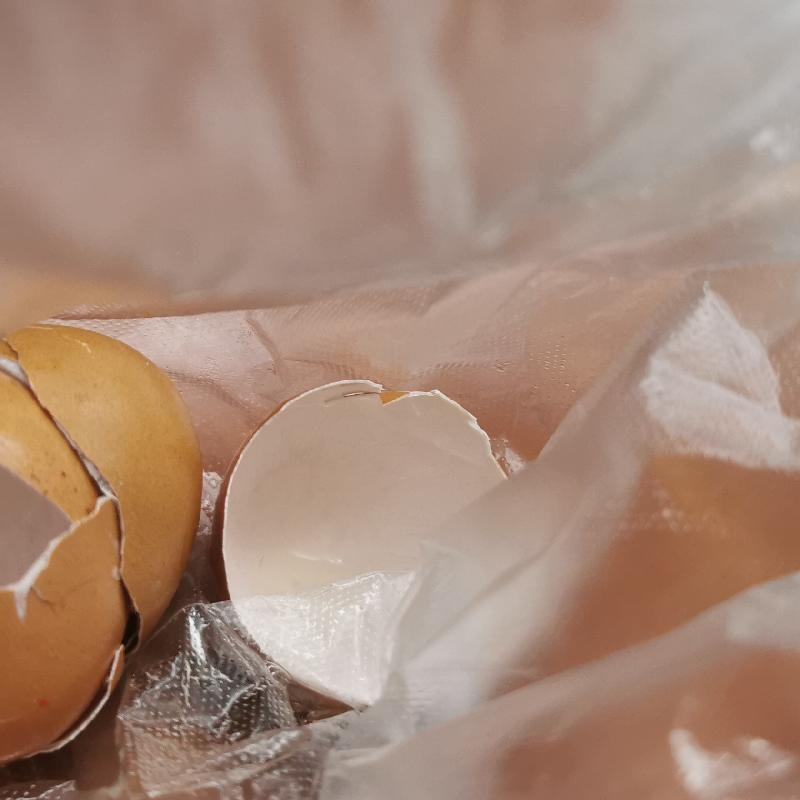eggshell: (220, 367, 532, 713), (4, 313, 202, 765)
